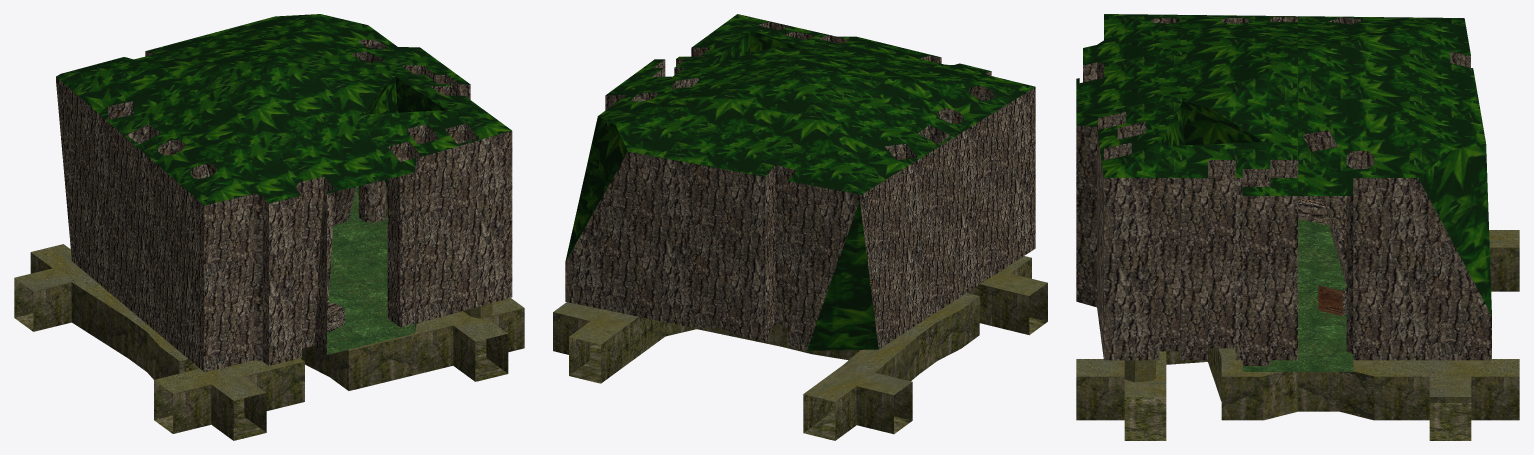
File: woods5cell.gltf
3 renders of one model, left to right at view 1: azimuth 30°, elevation 25°; view 2: azimuth 150°, elevation 25°; view 3: azimuth 270°, elevation 25°, orthographic. The views are drawn at different scales.
Visible parts, largest first — view 1: woods5cell; view 2: woods5cell; view 3: woods5cell.
Boxes of the visible parts, left/top/right/bottom form: woods5cell: left=14, top=14, right=524, bottom=440; woods5cell: left=553, top=14, right=1047, bottom=440; woods5cell: left=1076, top=14, right=1519, bottom=440.
Bounding box in the file's own units: 32 × 23.5 × 32.
11 materials, 11 textured.
